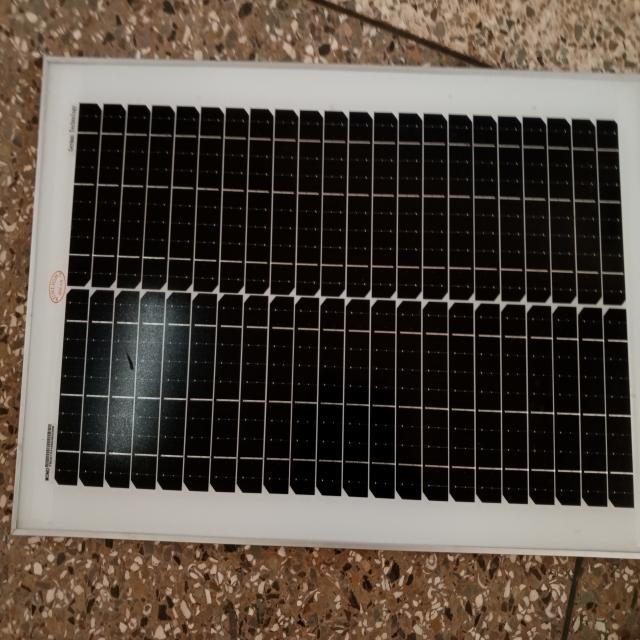Clean: (48, 76, 640, 533)
